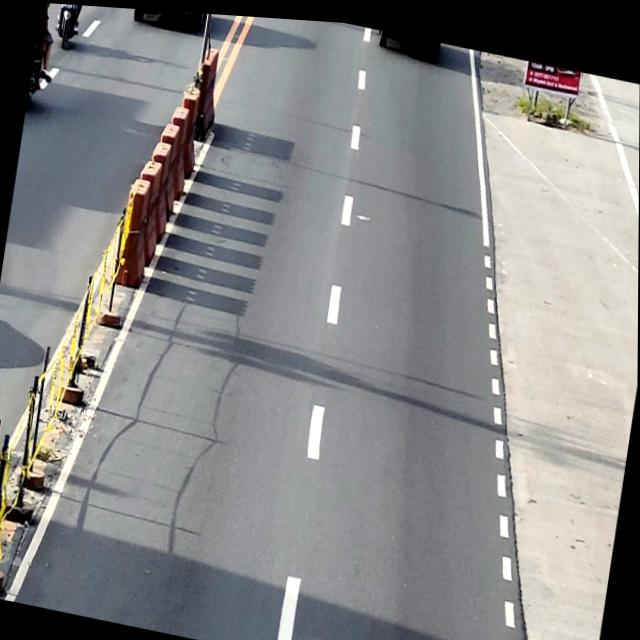Car: (131, 7, 212, 35)
Motorcycle: (48, 3, 87, 52)
Tricycle: (26, 1, 60, 108)
